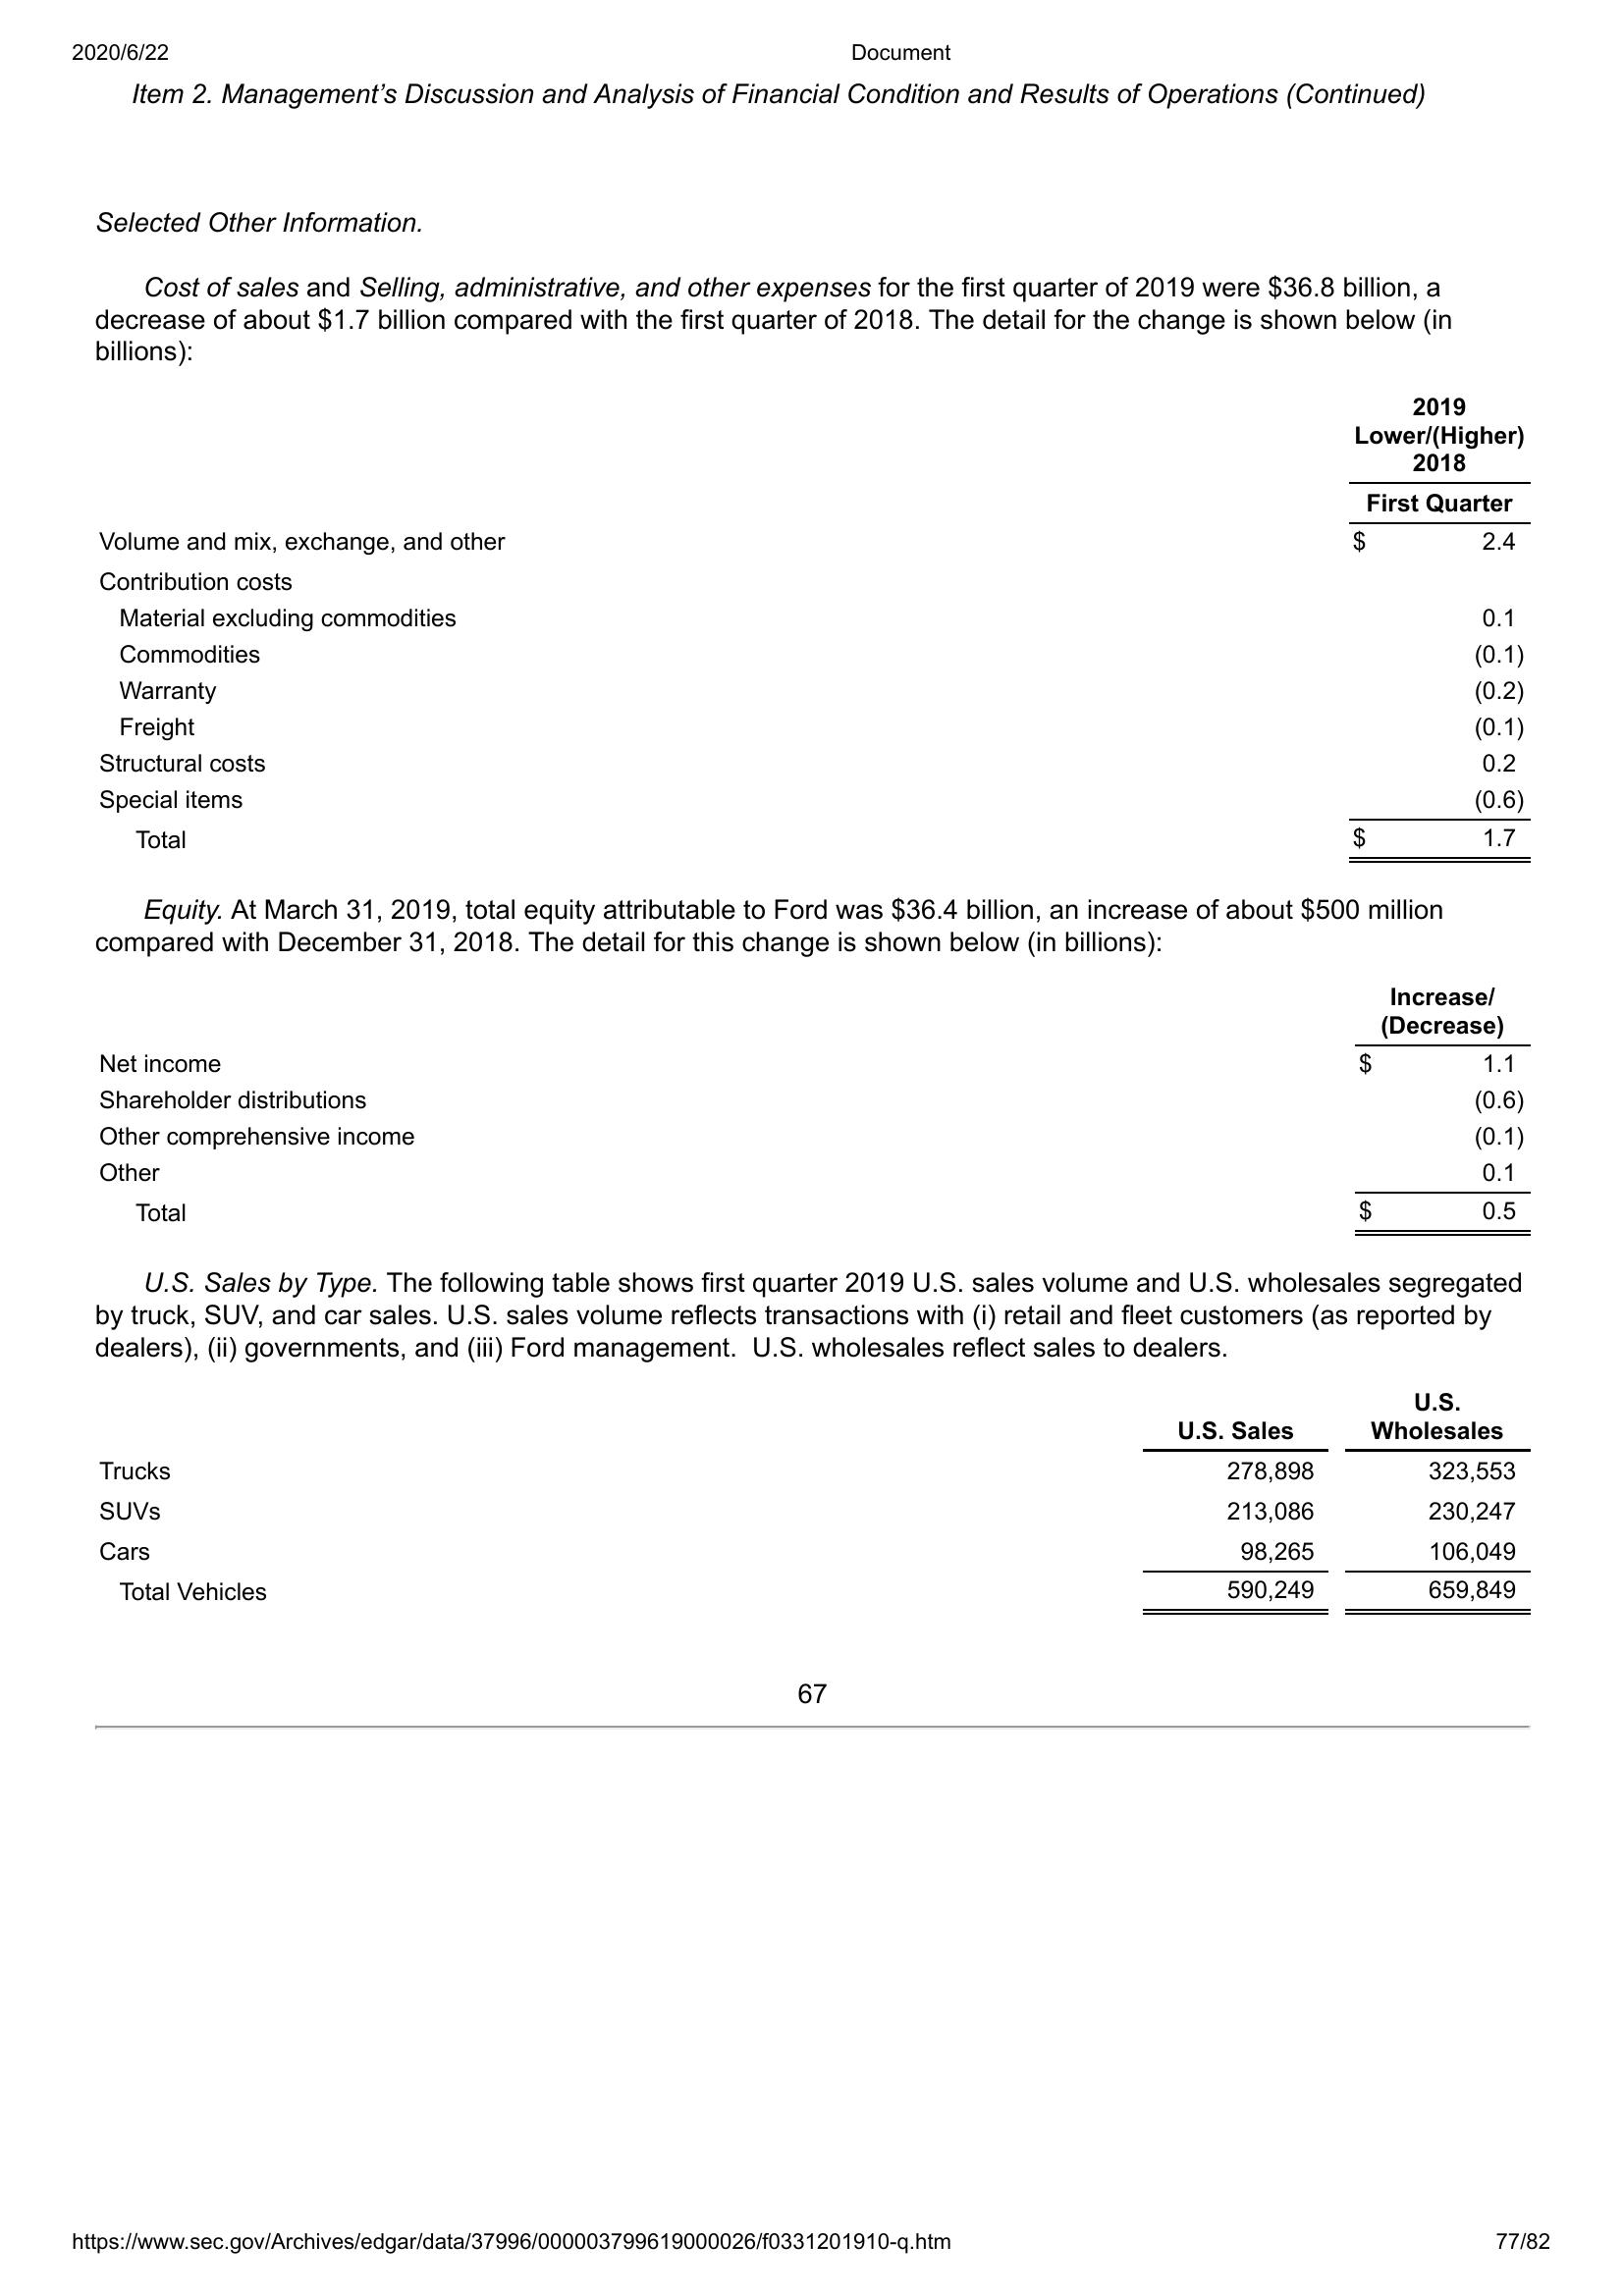table: (83, 393, 1535, 867), (90, 985, 1542, 1243), (90, 1387, 1535, 1618)
